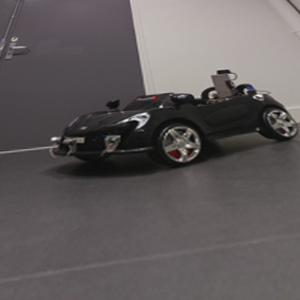big: (46, 82, 299, 173)
